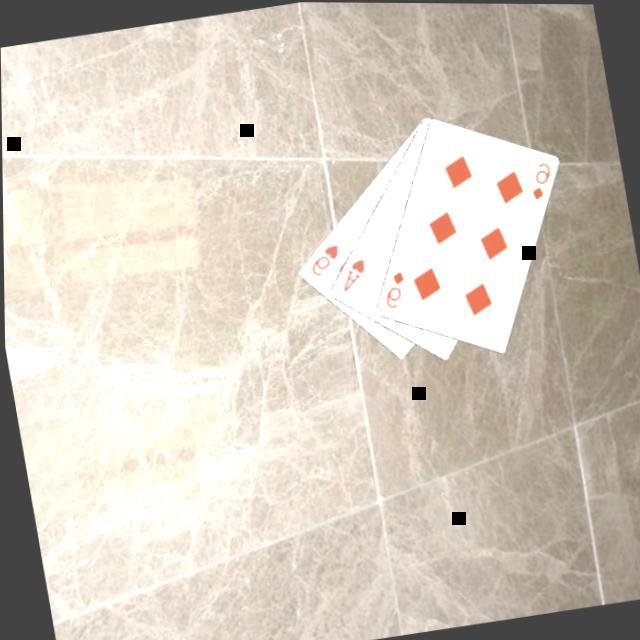6D: (379, 267, 414, 313), (525, 158, 560, 204)
6H: (305, 241, 346, 280)
AH: (335, 254, 372, 295)
